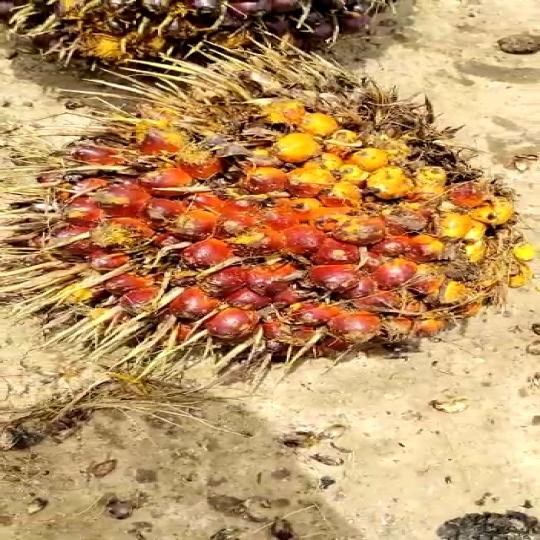masak: (31, 59, 540, 363)
